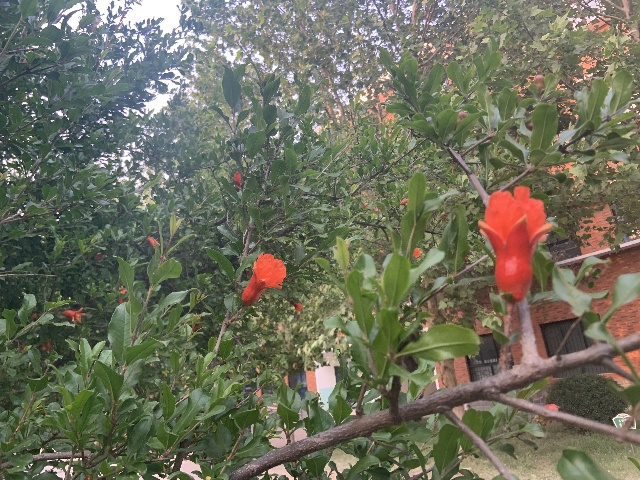flower: (477, 185, 552, 300), (242, 252, 286, 304), (61, 307, 86, 323), (232, 171, 243, 190), (293, 302, 302, 312), (413, 247, 420, 258)
